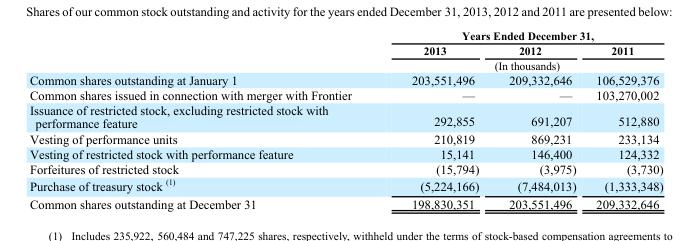table: (28, 28, 662, 210)
table column: (28, 28, 380, 210), (380, 28, 493, 210), (493, 28, 585, 210), (585, 28, 662, 210)
table column header: (28, 28, 662, 72)
table row: (28, 102, 662, 130), (28, 176, 662, 194), (28, 130, 662, 146), (28, 194, 662, 210), (28, 42, 662, 57), (28, 57, 662, 72), (28, 72, 662, 87), (28, 87, 662, 102), (28, 146, 662, 161), (28, 161, 662, 176), (28, 28, 662, 42)
table spanning cell: (380, 57, 662, 72), (380, 28, 662, 42)
